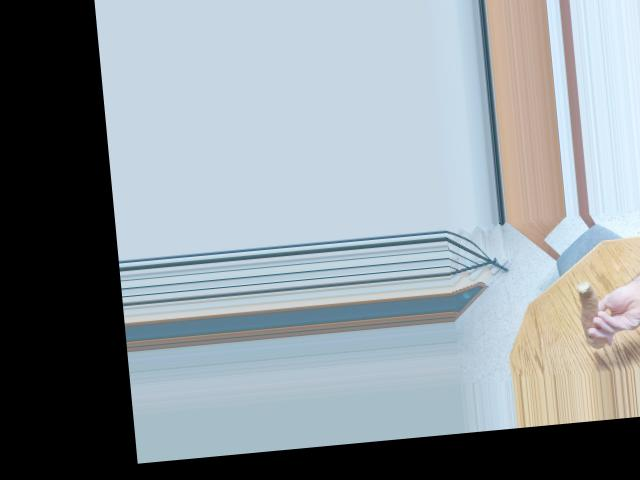sweet_potato: (574, 278, 610, 349)
